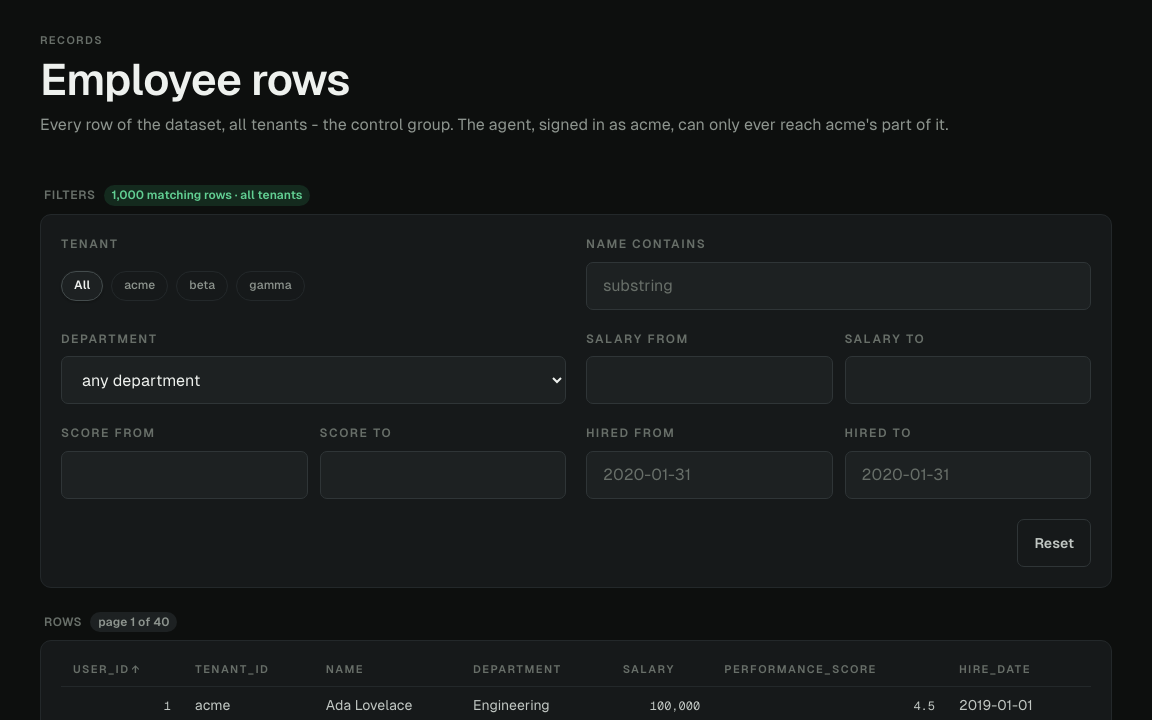
Scenario: the records tab › clears the filters and asks again on reset
Type "ada" into the field labelled "Name contains". click: (838, 286)
box: [586,262,1091,310]
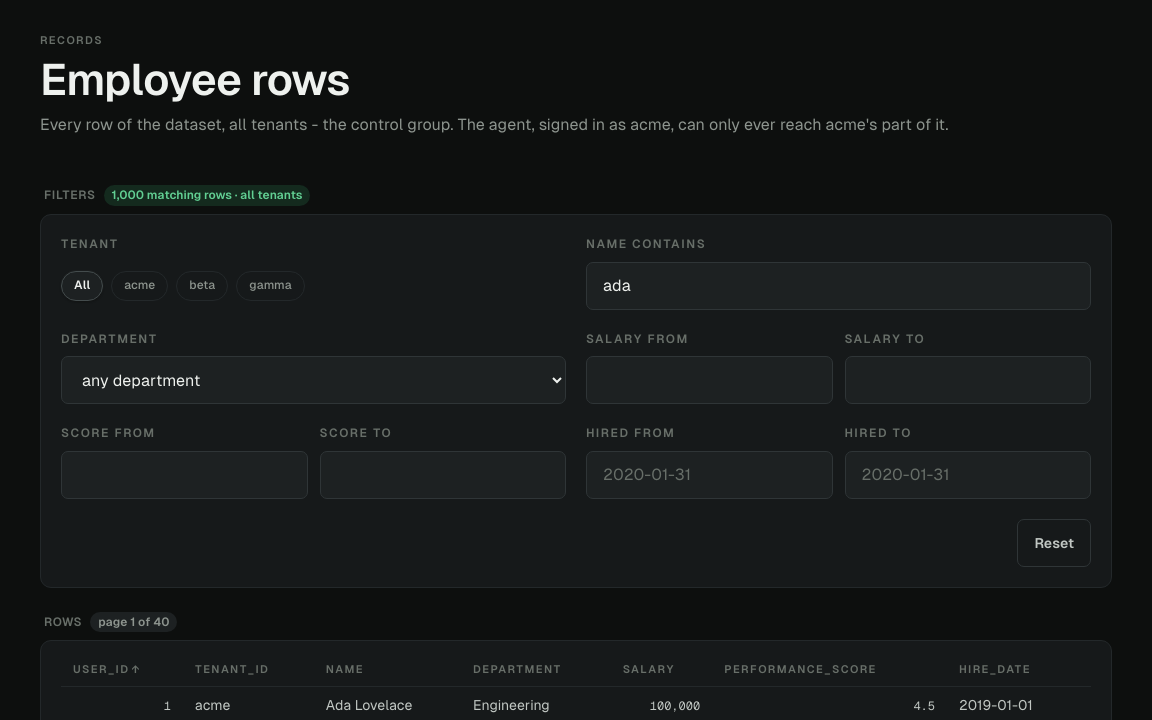
Click the button "Reset". click: (1054, 543)
box: [1017,519,1091,567]
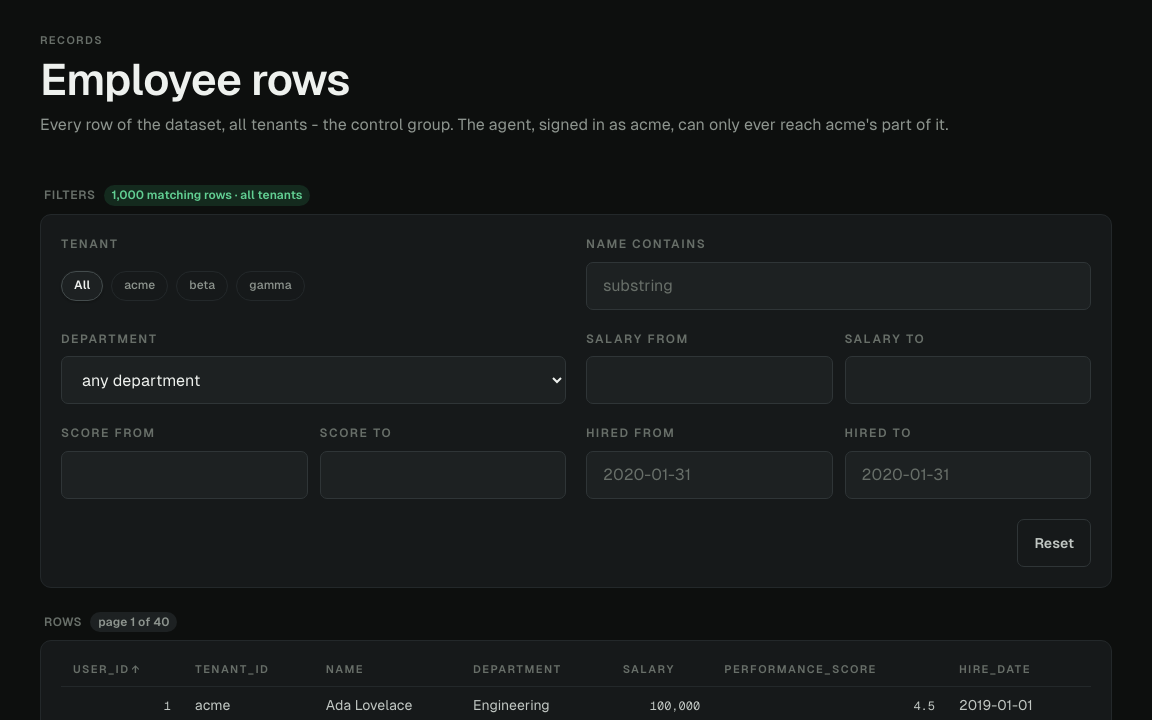
Result: the field labelled "Name contains" is empty at [586,262,1091,310]
